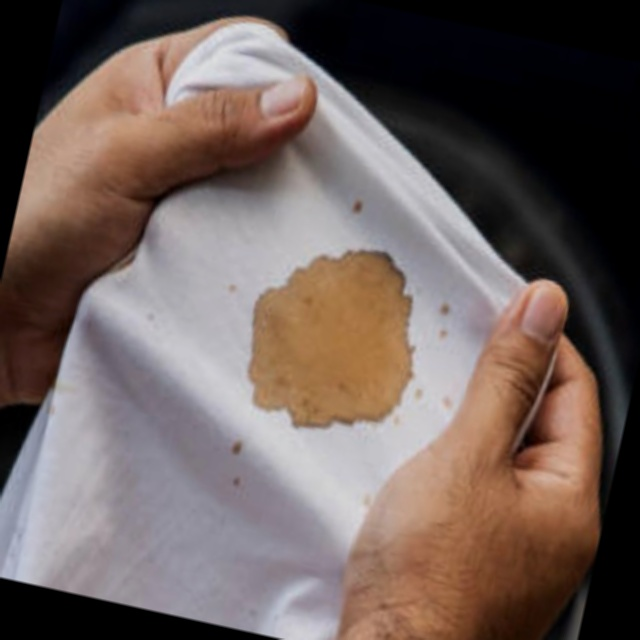coffee: (230, 223, 442, 450)
